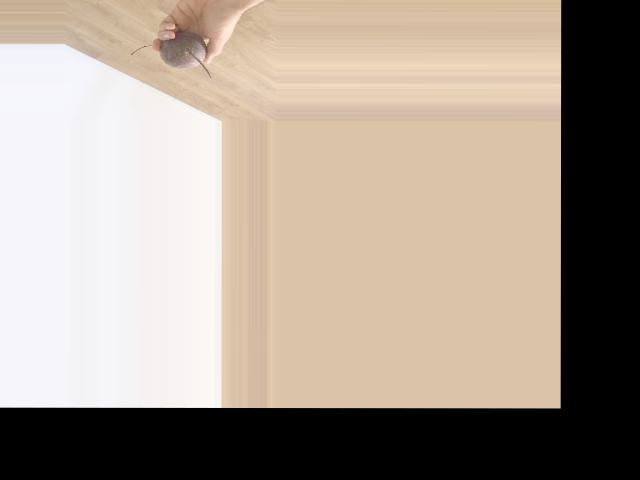beet: (130, 31, 210, 77)
